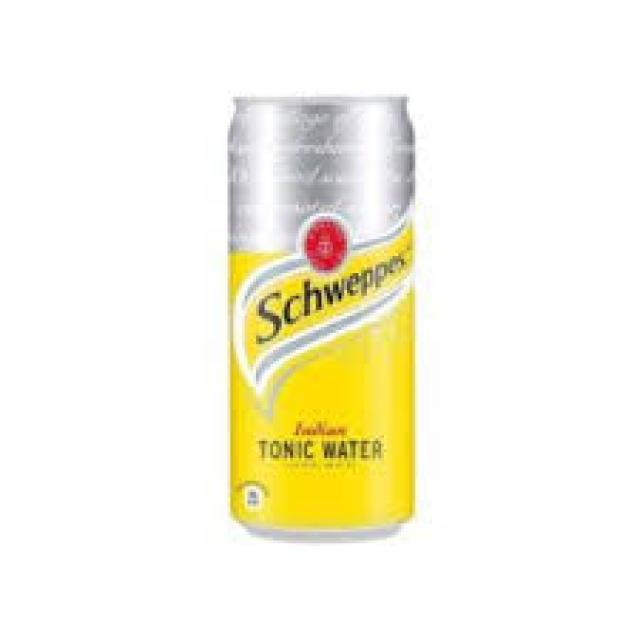Cans: (213, 82, 430, 552)
